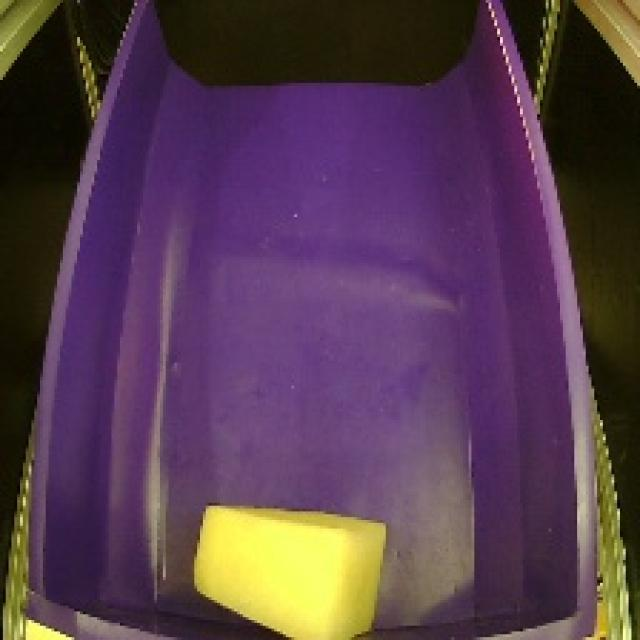potato: (182, 481, 394, 640)
